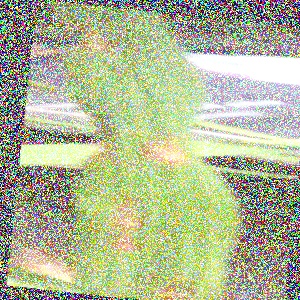Brown_Spot: (139, 254, 219, 300), (135, 124, 202, 176), (100, 191, 162, 236), (67, 22, 120, 66), (105, 232, 150, 261)
